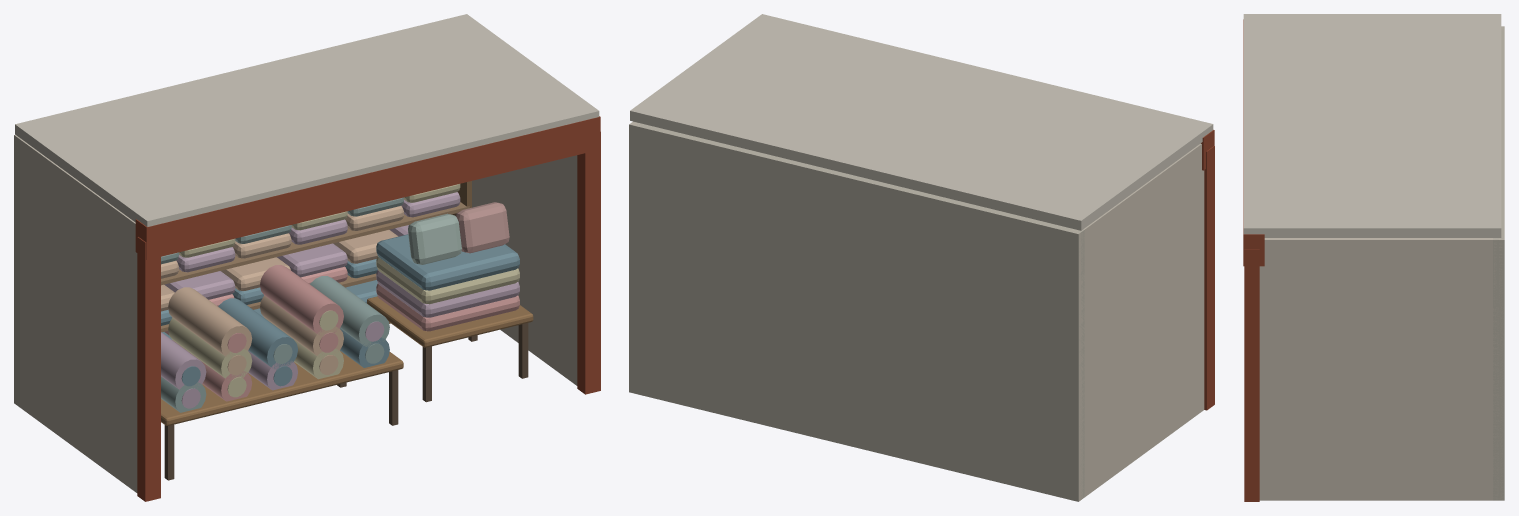
Rendered from Bedding.glb.
3 renders of one model, left to right at view 1: azimuth 30°, elevation 25°; view 2: azimuth 150°, elevation 25°; view 3: azimuth 270°, elevation 25°, orthographic. The views are drawn at different scales.
Visible parts, largest first — view 1: Bedding; view 2: Bedding; view 3: Bedding.
Boxes of the visible parts, x1,y1,x2,y2 form: Bedding: (14,14,600,501); Bedding: (629,14,1214,501); Bedding: (1243,14,1504,501).
Bounding box in the file's own units: 5.26 × 3.1 × 2.69.
